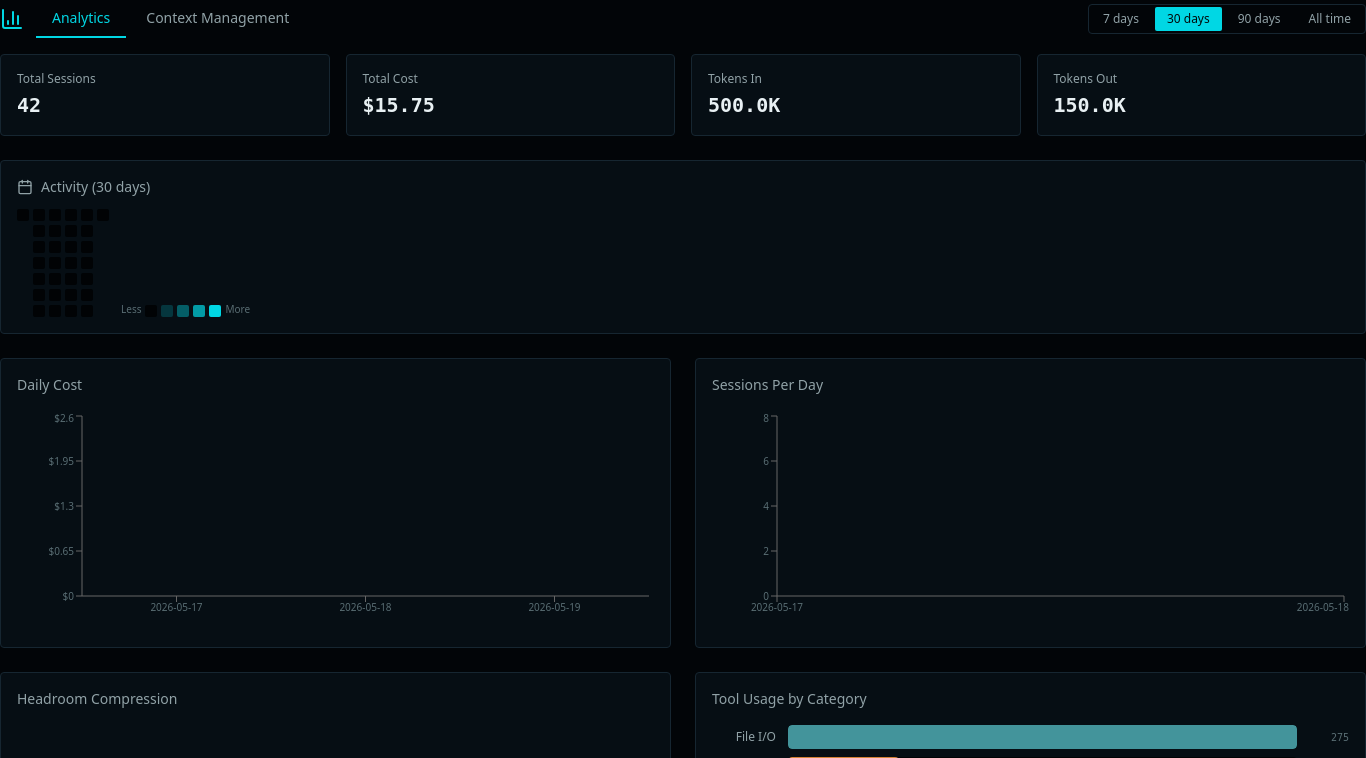
it: AnalyticsPage — Phase 1: Tab Infrastructure › clicking "Context Management" switches visible content
Expected: the text "Total Sessions" is shown, top-left (17, 70), bottom-right (96, 87)
Click the button "Context Management".
click(218, 19)  # box top-left (130, 0), bottom-right (305, 38)
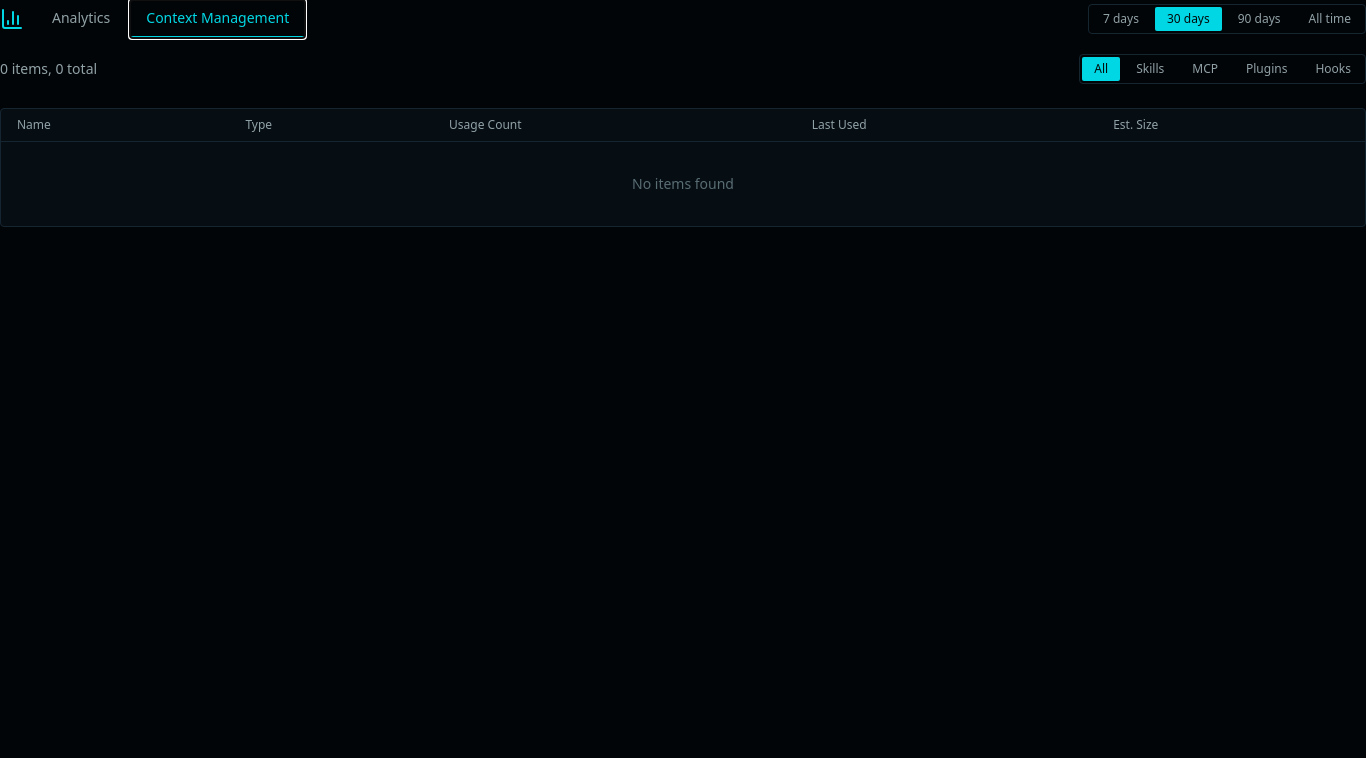
Result: the text "Total Sessions" is gone
